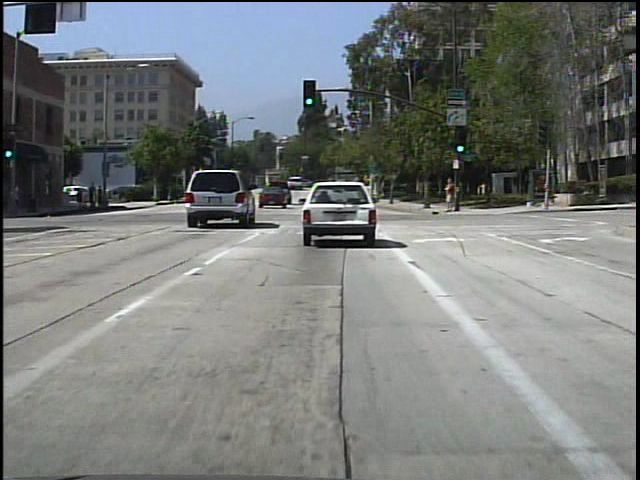person: (440, 172, 459, 216), (89, 179, 100, 212), (102, 182, 103, 209)
